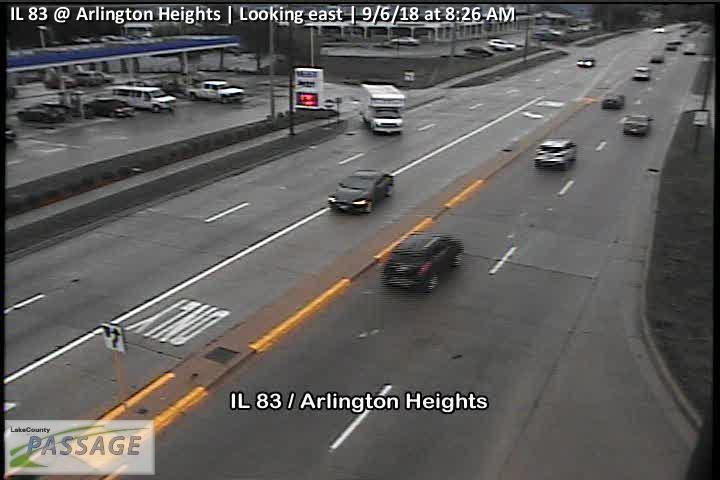SUV: (384, 235, 464, 294), (112, 85, 177, 112), (532, 140, 577, 170)
Sedan: (326, 168, 393, 213), (15, 105, 71, 124), (85, 99, 136, 118), (622, 113, 651, 137), (600, 94, 625, 109)
Truck: (359, 84, 406, 135), (188, 81, 244, 103)
